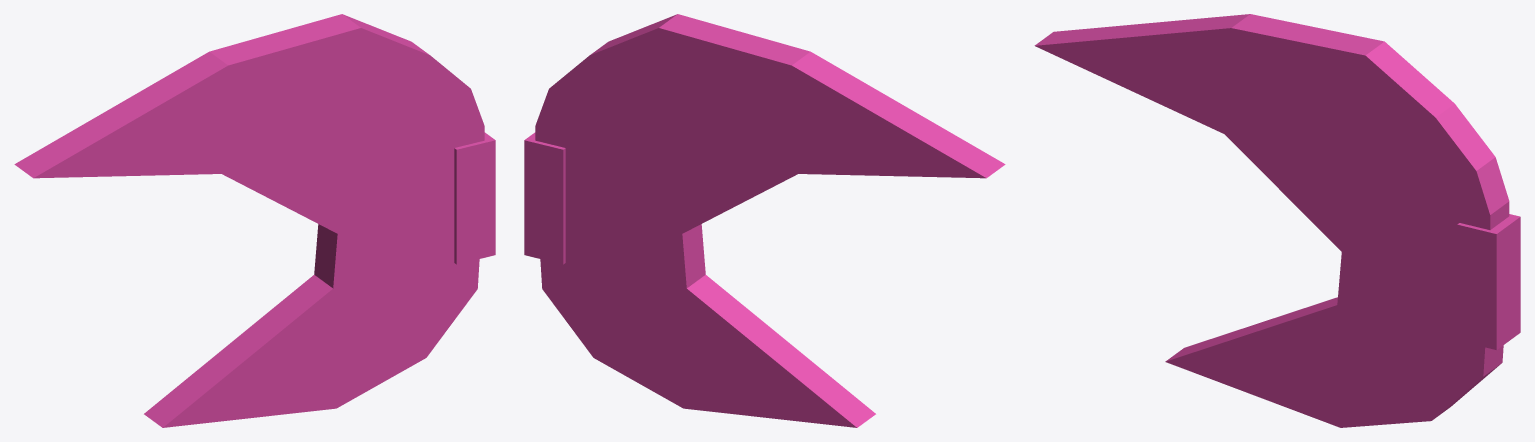
The model's file is sm_boat_rudder_01_a.fbx.
3 views of the same model, side by side, from view 1: azimuth 30°, elevation 25°; view 2: azimuth 150°, elevation 25°; view 3: azimuth 330°, elevation 25° (orthographic).
Parts seen in each view (by area): view 1: sm_boat_rudder_01_a; view 2: sm_boat_rudder_01_a; view 3: sm_boat_rudder_01_a.
Part boxes in pixels (<box>): sm_boat_rudder_01_a: <box>14,14,495,427</box>; sm_boat_rudder_01_a: <box>524,14,1005,427</box>; sm_boat_rudder_01_a: <box>1034,14,1520,427</box>.
Bounding box in the file's own units: 270 × 210 × 24.11.
